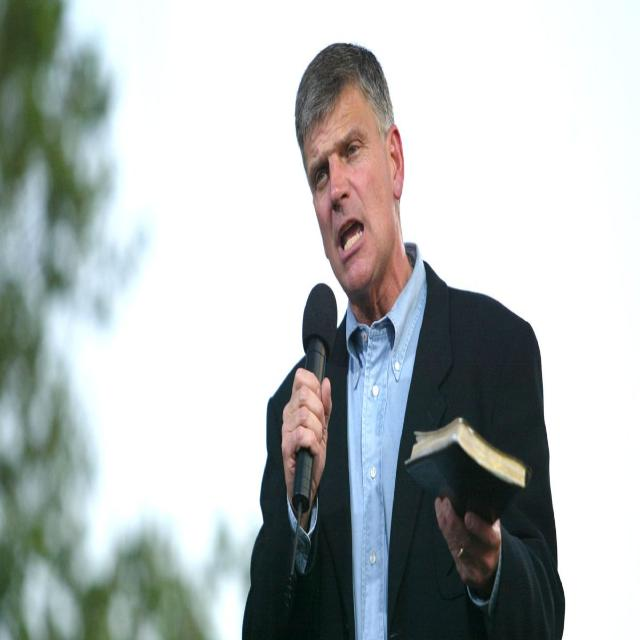human: (237, 32, 568, 640)
